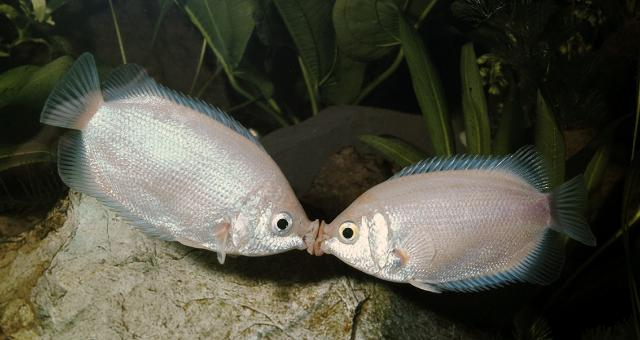Mulut: (290, 207, 322, 267), (309, 218, 336, 272)
Sirip Anal: (49, 121, 171, 248), (433, 232, 551, 294)
Sirip Dada: (382, 227, 446, 276), (205, 212, 238, 274)
Sirip Ekor: (34, 49, 112, 137), (536, 166, 606, 256)
Sirip Perut: (168, 232, 216, 260), (402, 276, 450, 300)
Sirip Punggung: (100, 57, 262, 149), (388, 141, 556, 201)
